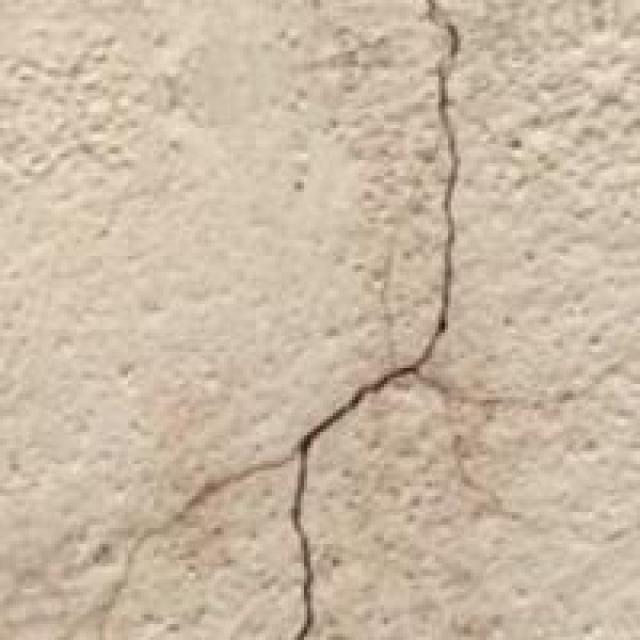crack: (182, 26, 518, 636)
